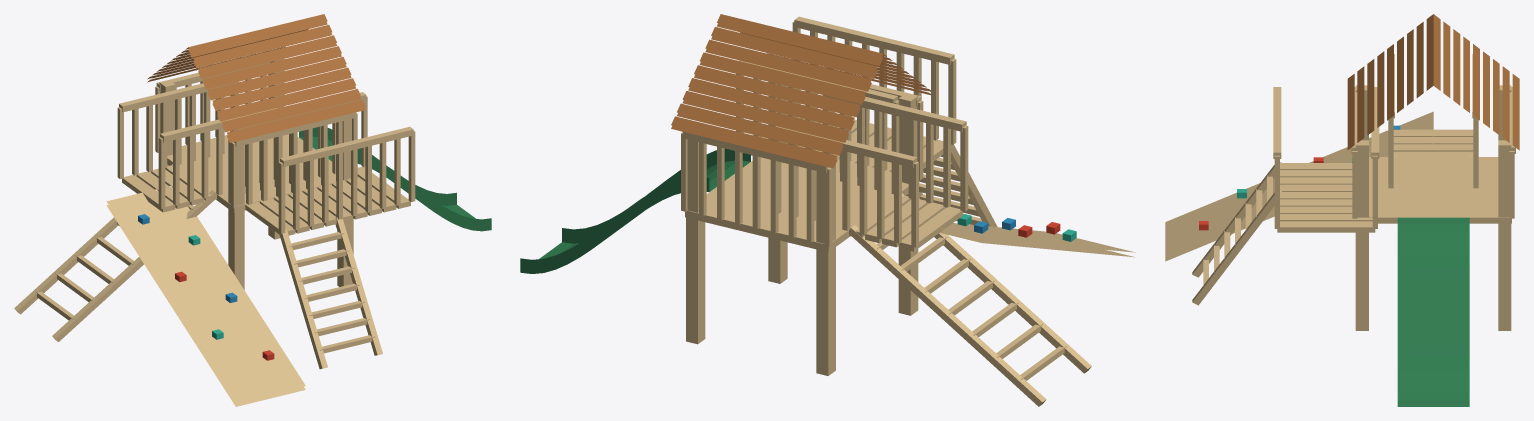
3 views of the same model, side by side, from view 1: azimuth 30°, elevation 25°; view 2: azimuth 150°, elevation 25°; view 3: azimuth 270°, elevation 25° (orthographic). The views are drawn at different scales.
Visible parts, largest first — view 1: SW-T208; view 2: SW-T208; view 3: SW-T208.
Part boxes in pixels (bbox=[...]): SW-T208: bbox=[14, 14, 491, 406]; SW-T208: bbox=[520, 14, 1135, 406]; SW-T208: bbox=[1165, 14, 1519, 406].
Size of the model in its own units: 4.6 by 2.45 by 3.1.
